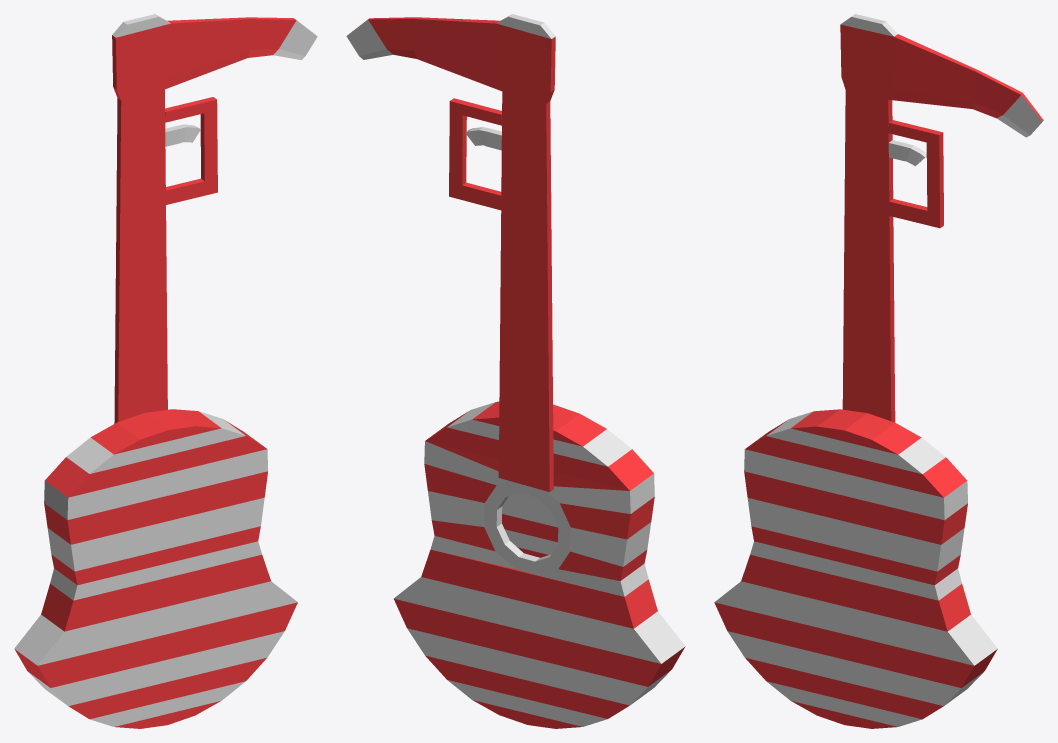
File: guitargun_sidehero.fbx
3 renders of one model, left to right at view 1: azimuth 30°, elevation 25°; view 2: azimuth 150°, elevation 25°; view 3: azimuth 330°, elevation 25°, orthographic. The views are drawn at different scales.
Parts seen in each view (by area): view 1: Circle; view 2: Circle; view 3: Circle.
Boxes of the visible parts, x1,y1,x2,y2 form: Circle: (14, 14, 317, 728); Circle: (346, 14, 685, 728); Circle: (714, 14, 1043, 728).
Size of the model in its own units: 1875 by 4048 by 297.
